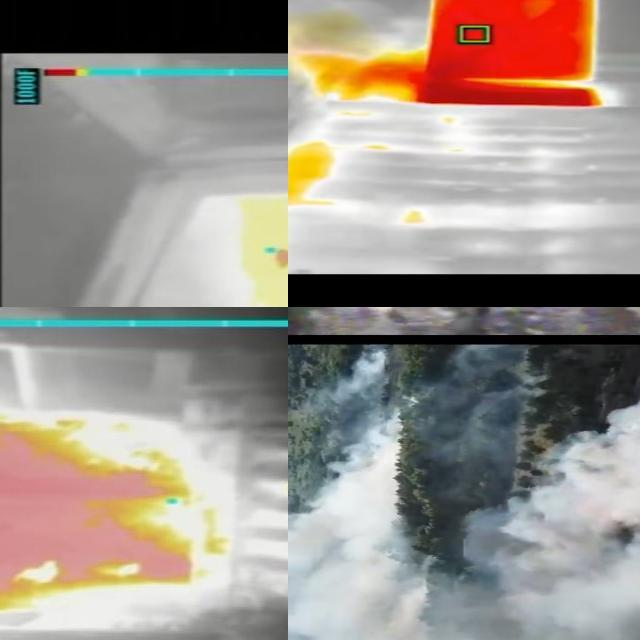fire: (1, 391, 194, 591), (302, 48, 424, 105)
